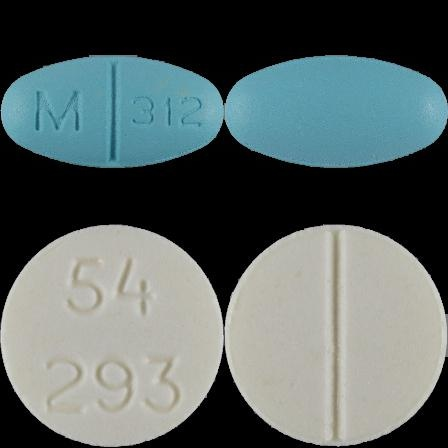54868-3300: (0, 0, 224, 224)
